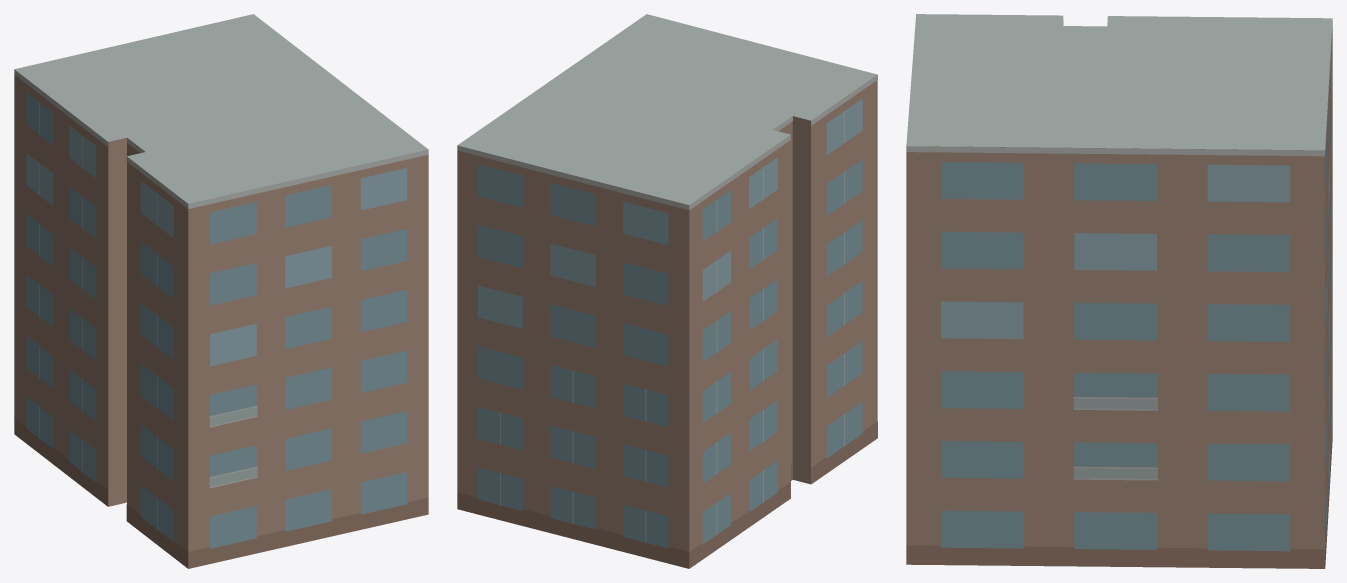
File: survey-upis-32520607.glb
3 views of the same model, side by side, from view 1: azimuth 30°, elevation 25°; view 2: azimuth 150°, elevation 25°; view 3: azimuth 270°, elevation 25° (orthographic). The views are drawn at different scales.
Visible parts, largest first — view 1: survey-upis-32520607.tmp; view 2: survey-upis-32520607.tmp; view 3: survey-upis-32520607.tmp.
Boxes of the visible parts, box(x1,y1,x2,y2) form: survey-upis-32520607.tmp: box(14, 14, 428, 568); survey-upis-32520607.tmp: box(457, 14, 877, 568); survey-upis-32520607.tmp: box(906, 14, 1332, 568).
Bounding box in the file's own units: 12.02 × 17.2 × 15.89.
